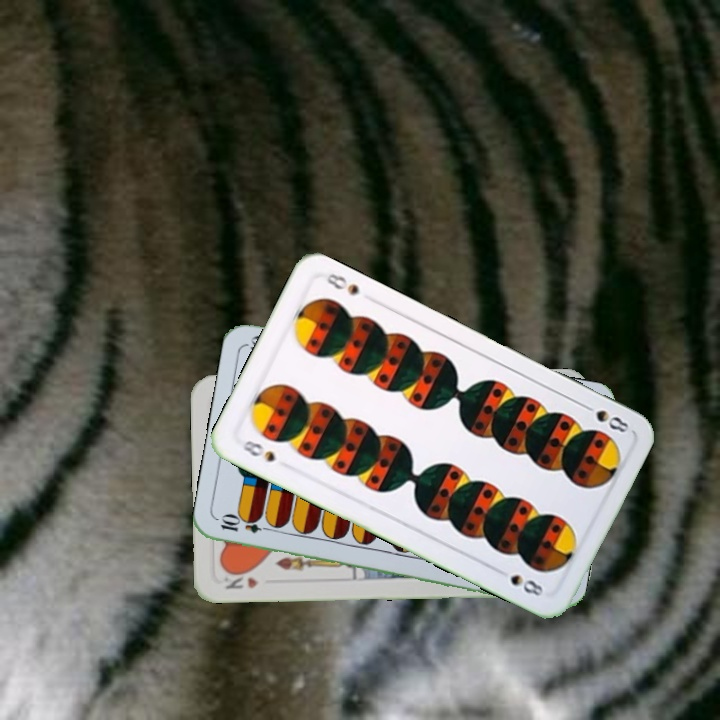E10: (217, 513, 276, 536)
HK: (221, 567, 261, 591)
S8: (577, 399, 631, 436), (237, 436, 278, 465)
